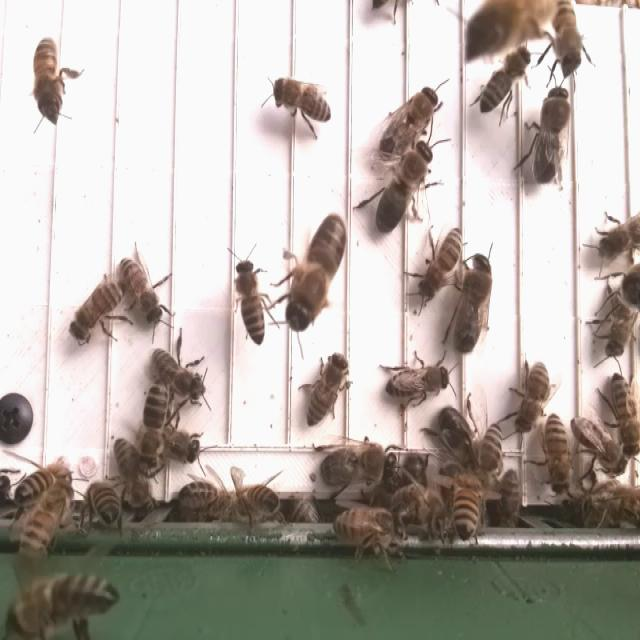Drone: (285, 211, 349, 331), (375, 139, 435, 236), (448, 248, 494, 356), (378, 84, 439, 159), (530, 83, 572, 187), (316, 444, 398, 493), (437, 406, 487, 478)
Worker: (303, 349, 350, 432), (478, 44, 531, 114), (566, 414, 626, 475), (69, 278, 123, 342), (147, 348, 208, 404), (114, 255, 163, 324), (110, 434, 151, 514), (233, 258, 270, 346), (268, 76, 334, 124), (378, 362, 452, 404), (136, 376, 167, 474), (513, 357, 550, 438), (30, 34, 65, 118), (608, 369, 640, 458), (542, 412, 572, 495), (12, 465, 70, 507), (551, 0, 582, 75)
